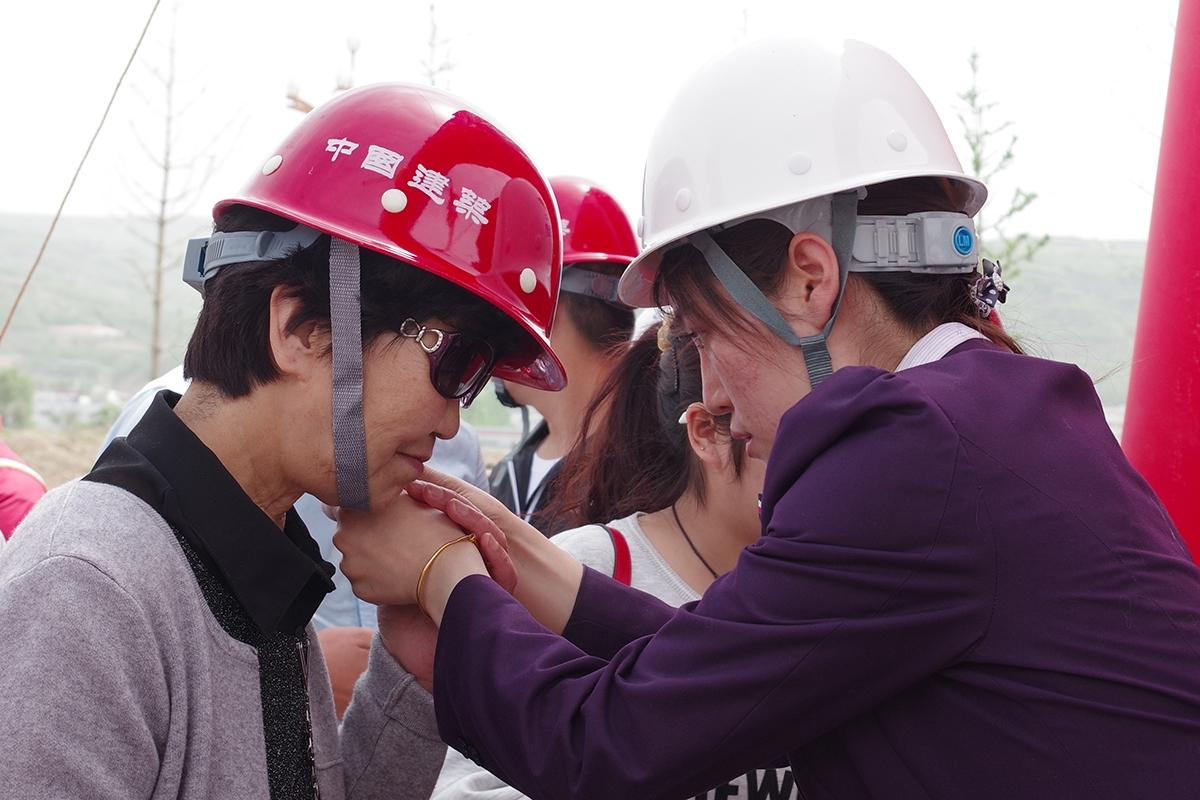helmet: (191, 80, 571, 399), (618, 30, 988, 309), (540, 153, 637, 290)
no_wear: (778, 397, 1200, 795), (2, 519, 322, 797)
